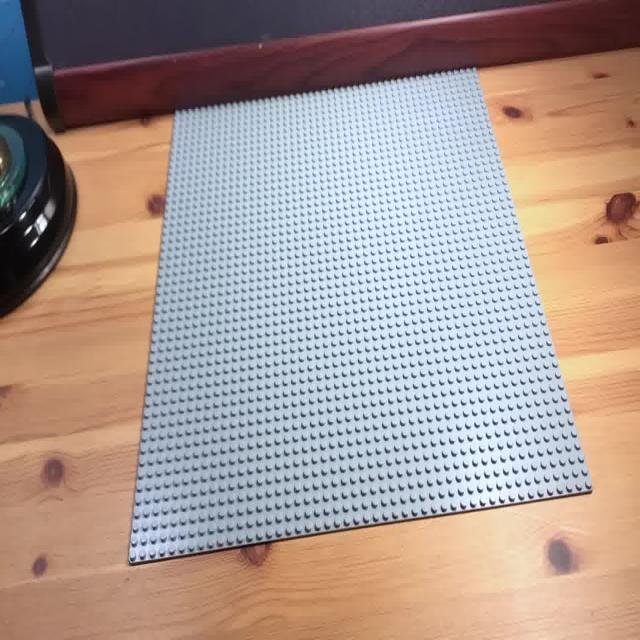figure: (132, 71, 588, 558)
